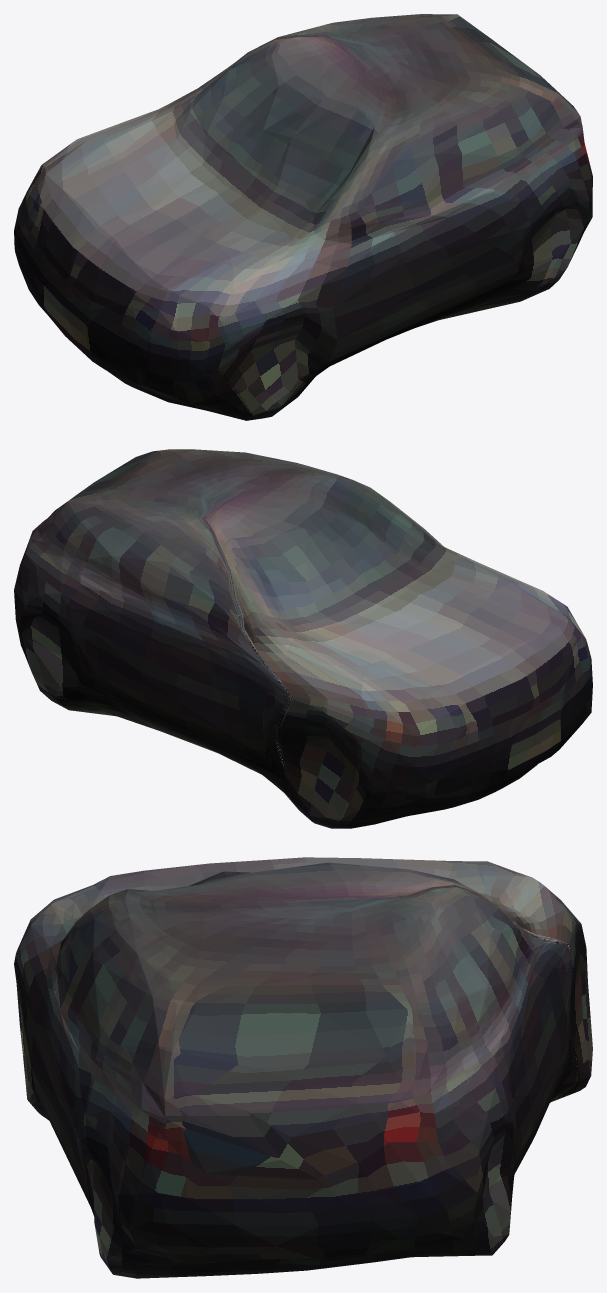
Rendered from video3_78.obj.
The picture shows the model from 3 angles, top to bottom: view 1: azimuth 30°, elevation 25°; view 2: azimuth 150°, elevation 25°; view 3: azimuth 270°, elevation 25°; orthographic projection. The views are drawn at different scales.
Bounding box in the file's own units: 1 × 0.4784 × 0.7178.
Materials: 1 (1 with a texture image).
